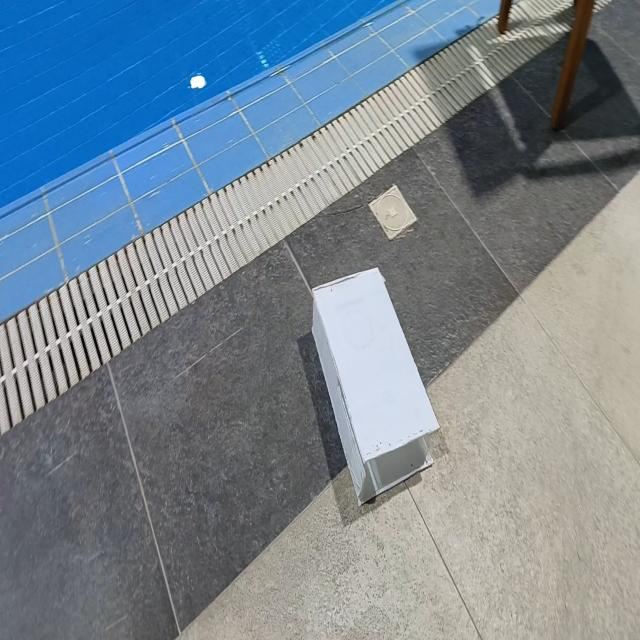Cuboid: (310, 265, 440, 507)
